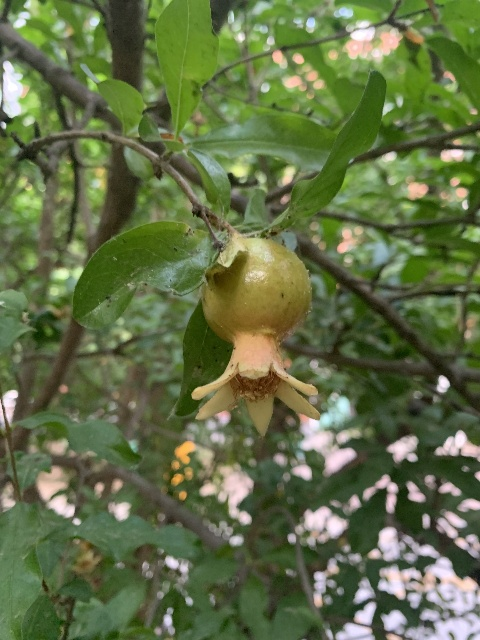mid-growth: (191, 237, 320, 437)
